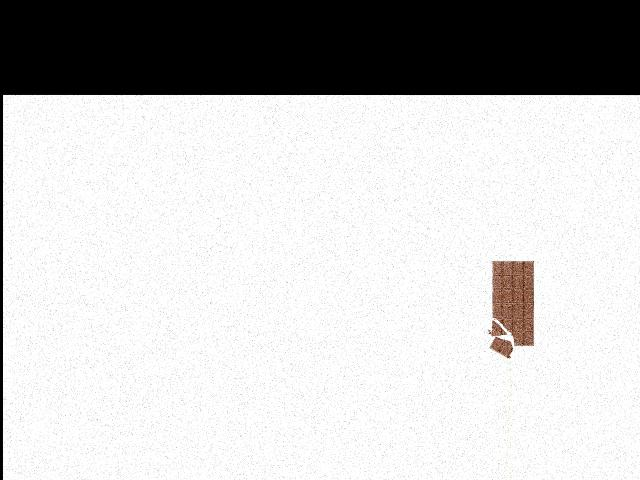chocolate: (479, 259, 540, 359)
